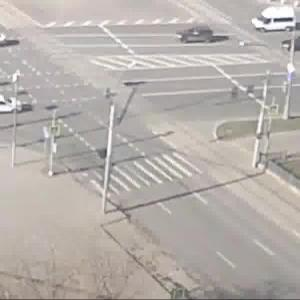car: (249, 6, 300, 30), (177, 24, 218, 47), (2, 89, 24, 116), (281, 36, 300, 51)
